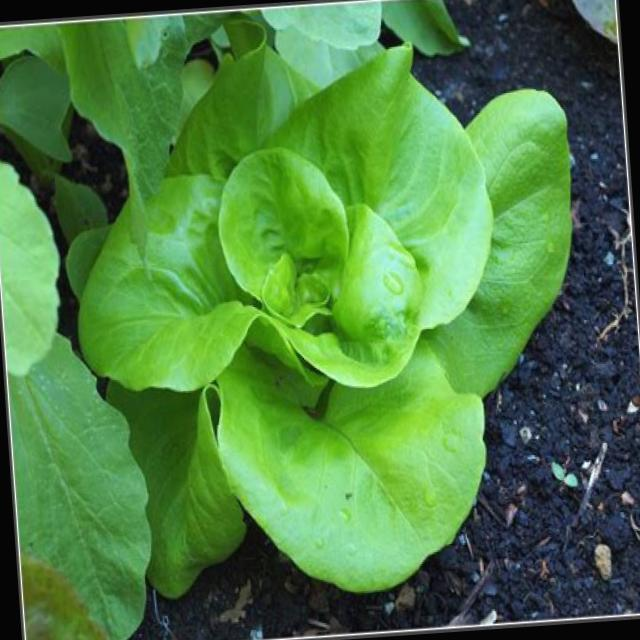Lettuce-Ready-to-Harvest: (69, 46, 537, 609)
